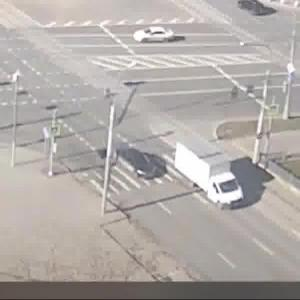car: (172, 136, 248, 212), (108, 144, 164, 182), (140, 23, 180, 46), (228, 1, 274, 20)
